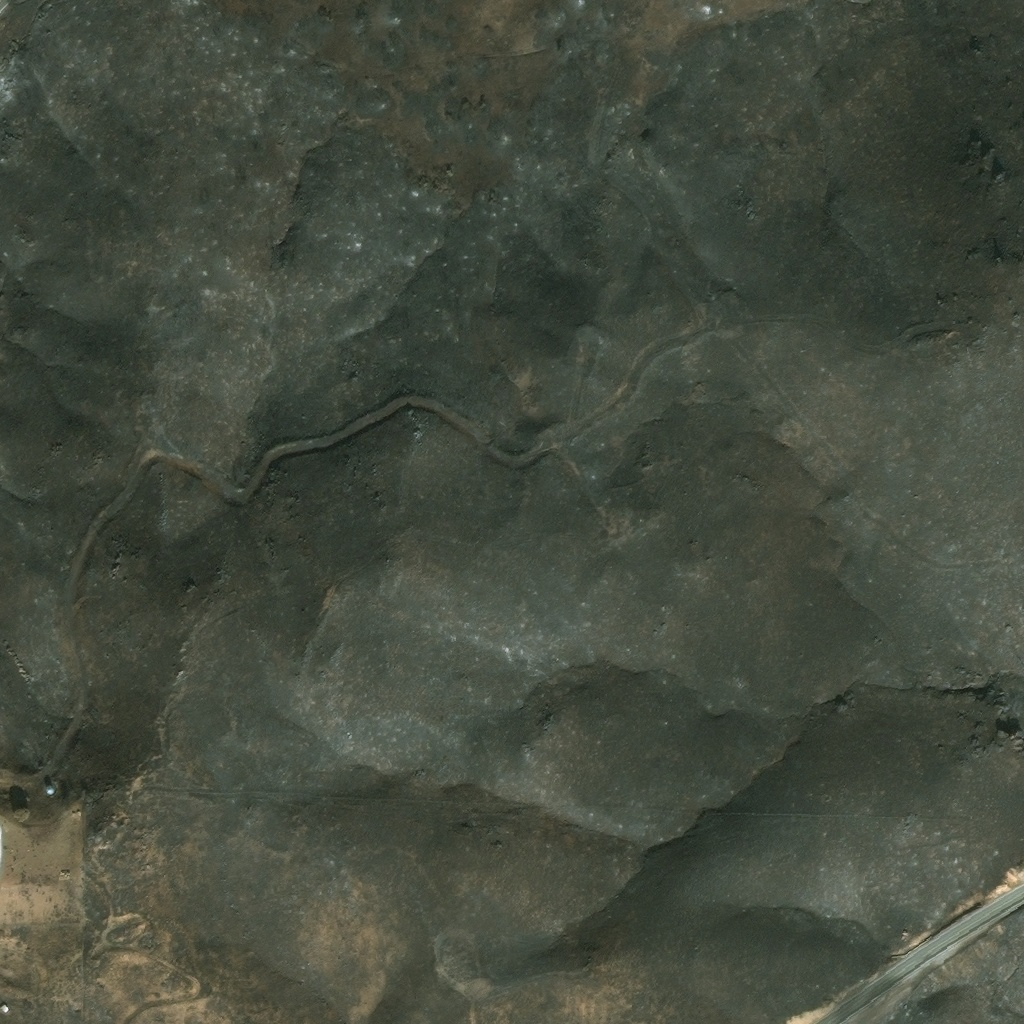0 no-damage: (44, 783, 55, 794), (0, 1002, 10, 1013)
